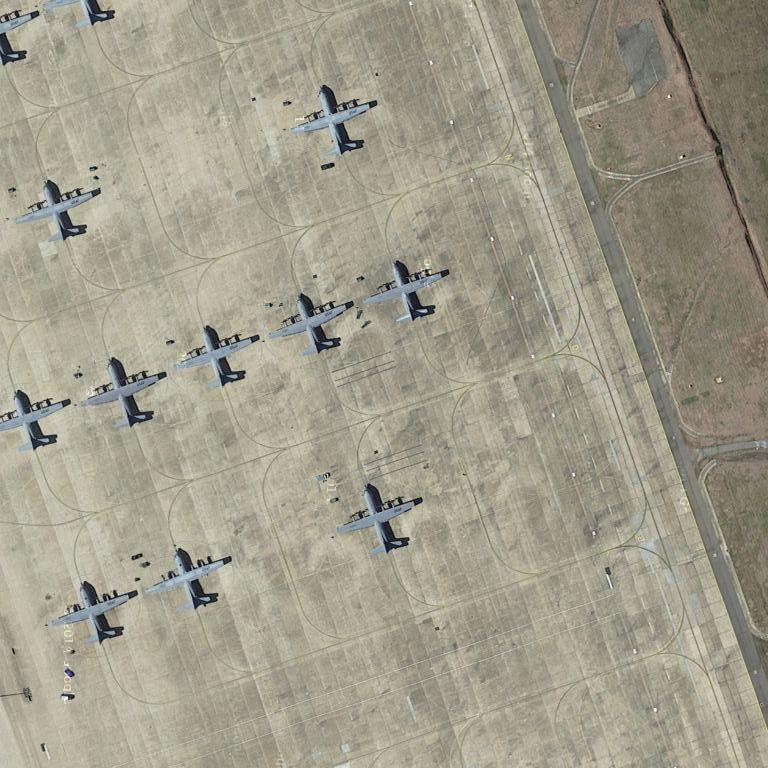C-130: (144, 541, 236, 617), (289, 81, 373, 164), (363, 253, 448, 335), (335, 482, 422, 562), (47, 577, 140, 651), (173, 320, 260, 399), (81, 353, 164, 434), (270, 289, 352, 366), (17, 176, 96, 252), (1, 382, 68, 460)
